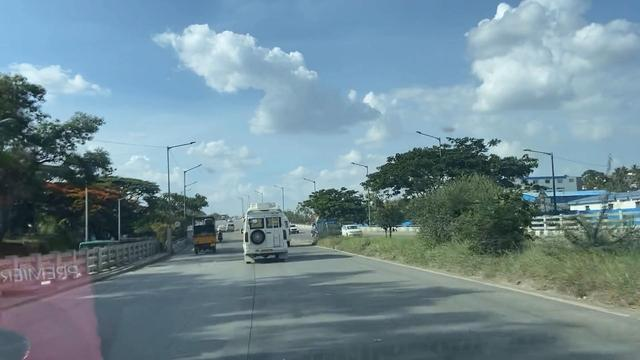HMV: (243, 204, 290, 264), (195, 213, 216, 251)
